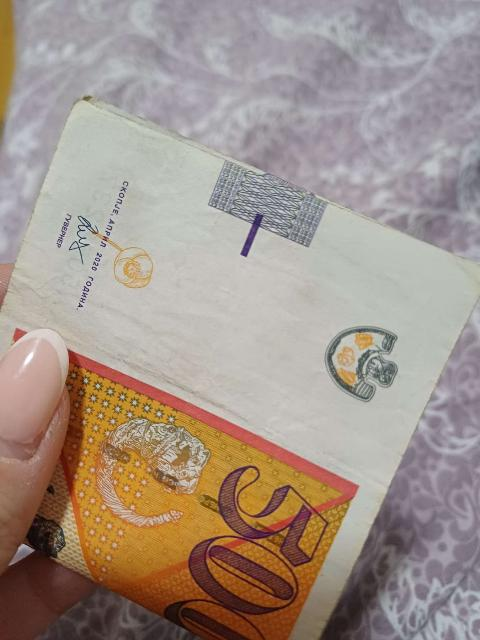500_note: (0, 102, 479, 639)
